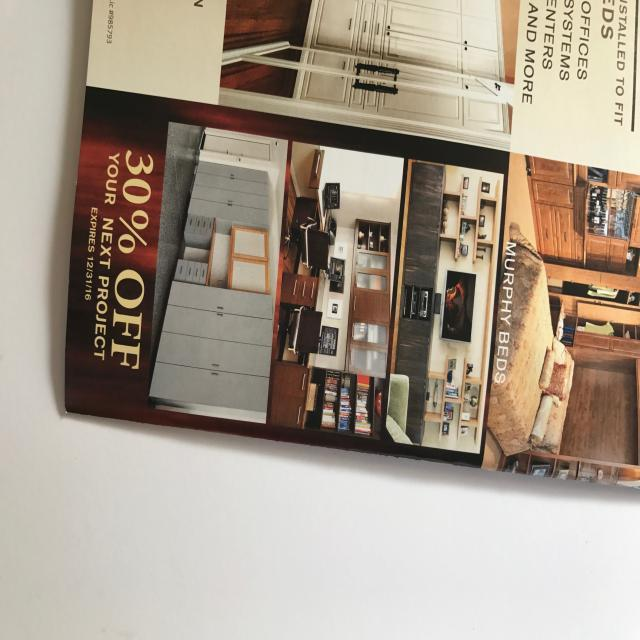paper: (63, 1, 640, 498)
